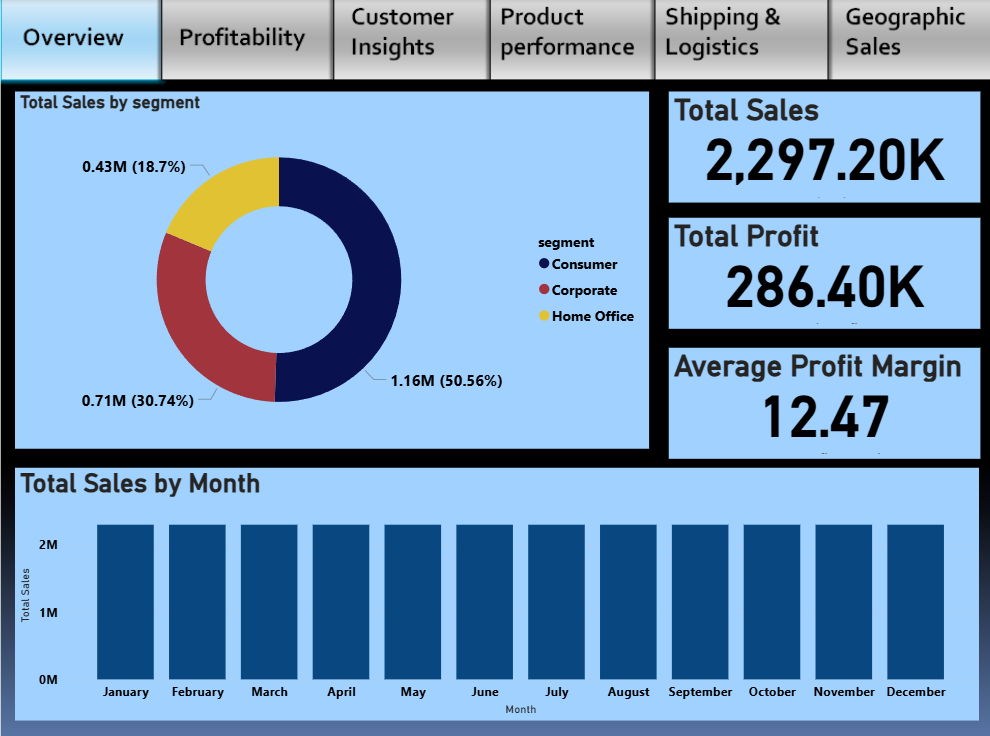

Layout of this report page (visuals, bound fields, positions):
{"tool":"powerbi","page":{"name":"Overview","canvas":[1280,720],"ordinal":0},"visuals":[{"type":"actionButton","box":[312.9,0,168.8,79.6],"z":0},{"type":"actionButton","box":[481.6,0,142.7,79.6],"z":1000},{"type":"actionButton","box":[624.4,0,161.9,79.6],"z":2000},{"type":"actionButton","box":[786.3,0,168.8,79.6],"z":3000},{"type":"actionButton","box":[955.1,0,170.2,79.6],"z":4000},{"type":"card","title":"Total Sales","fields":{"Values":["Superstore.Total Sales"]},"box":[804.1,89.2,300.5,107],"z":5000},{"type":"card","title":"Total Profit","fields":{"Values":["Superstore.Total Profit"]},"box":[804.1,211.3,300.5,107],"z":6000},{"type":"card","title":"Average Profit Margin","fields":{"Values":["Superstore.Avg. Profit Margin"]},"box":[804.1,336.2,300.5,107],"z":7000},{"type":"columnChart","fields":{"Category":["DateTable.Date.Variation.Date Hierarchy.Month"],"Y":["Superstore.Total Sales"]},"box":[174.3,452.8,930.4,244.3],"z":8000},{"type":"donutChart","fields":{"Category":["Superstore.segment"],"Y":["Superstore.Total Sales"]},"box":[174.3,89.2,612,344.4],"z":9000}]}

Visuals, with their boxes on the page's 1280x720 design canvas (x1, y1, x2, y2). These are canvas units, not pixel positions in the 990x736 screenshot, which may show the page scaled, cropped or inside an application window:
actionButton: 313/0/482/80
actionButton: 482/0/624/80
actionButton: 624/0/786/80
actionButton: 786/0/955/80
actionButton: 955/0/1125/80
"Total Sales" card: 804/89/1105/196
"Total Profit" card: 804/211/1105/318
"Average Profit Margin" card: 804/336/1105/443
columnChart - DateTable.Date.Variation.Date Hierarchy.Month x Superstore.Total Sales: 174/453/1105/697
donutChart - Superstore.segment x Superstore.Total Sales: 174/89/786/434
